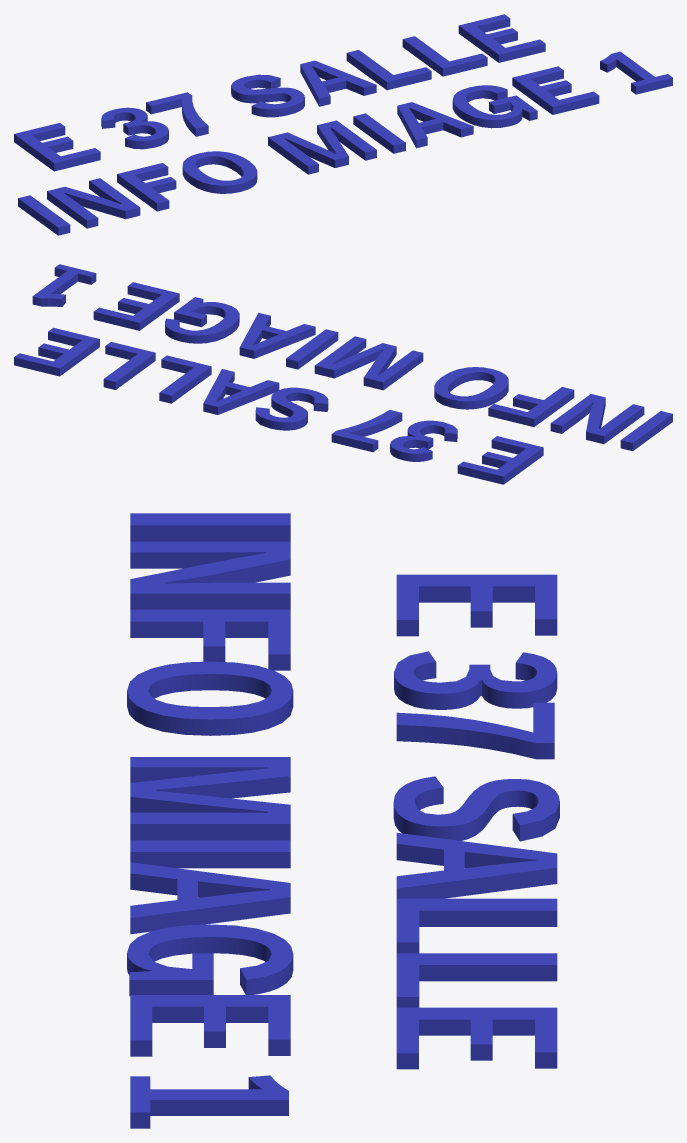
Rendered from e37salleinfomiage1.fbx.
3 views of the same model, one above another, from view 1: azimuth 30°, elevation 25°; view 2: azimuth 150°, elevation 25°; view 3: azimuth 270°, elevation 25° (orthographic). The views are drawn at different scales.
Parts seen in each view (by area): view 1: node_id283 (×2); view 2: node_id283 (×2); view 3: node_id283 (×2).
Boxes of the visible parts, x1,y1,x2,y2 form: node_id283 (×2): (14, 14, 672, 235); node_id283 (×2): (14, 264, 672, 484); node_id283 (×2): (127, 513, 559, 1128).
Bounding box in the file's own units: 1.48 × 0.0188 × 0.4526.
